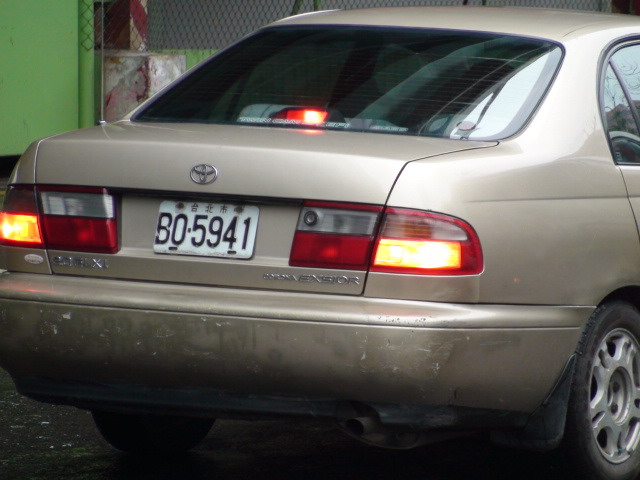plate: (151, 195, 265, 263)
